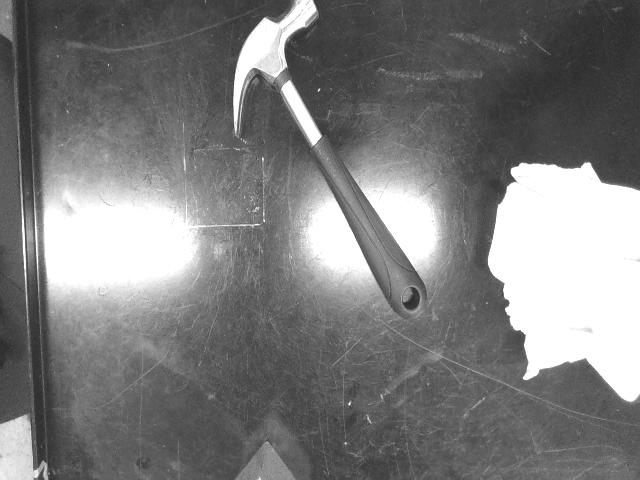Hammer: (232, 1, 426, 318)
